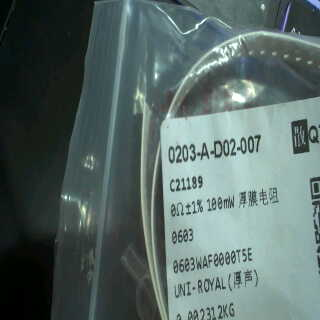0R: (168, 194, 237, 247)
